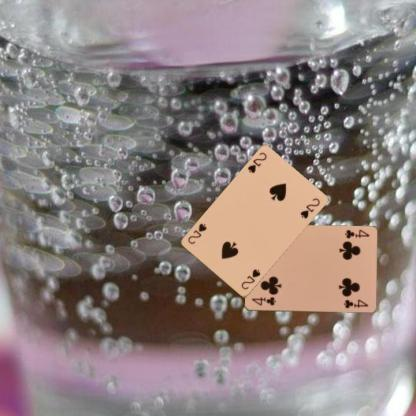2s: (238, 267, 262, 291), (245, 150, 268, 175)
4c: (342, 227, 370, 240), (249, 295, 277, 306)
